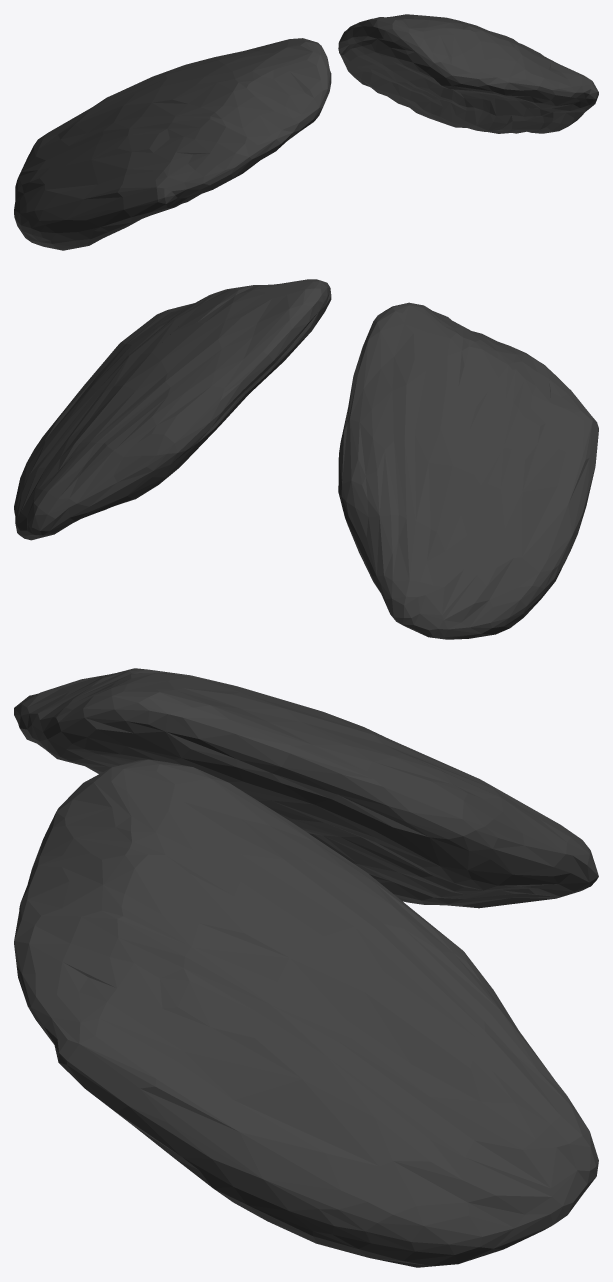
File: m_gluteus_medius.glb
3 renders of one model, top to bottom at view 1: azimuth 30°, elevation 25°; view 2: azimuth 150°, elevation 25°; view 3: azimuth 270°, elevation 25°, orthographic. The views are drawn at different scales.
Parts seen in each view (by area): view 1: m_gluteus_medius; view 2: m_gluteus_medius; view 3: m_gluteus_medius.
Boxes of the visible parts, left/top/right/bottom form: m_gluteus_medius: left=14, top=14, right=598, bottom=250; m_gluteus_medius: left=14, top=279, right=598, bottom=639; m_gluteus_medius: left=14, top=668, right=598, bottom=1267.
Bounding box in the file's own units: 0.00904 × 0.00359 × 0.00541.
1 material, 1 textured.
